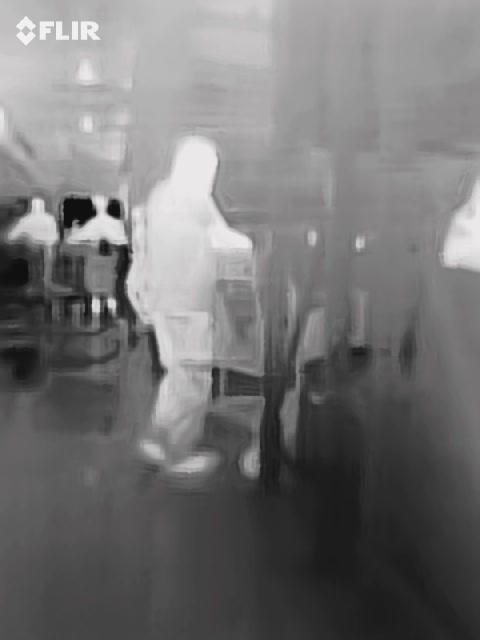head: (173, 137, 220, 197)
